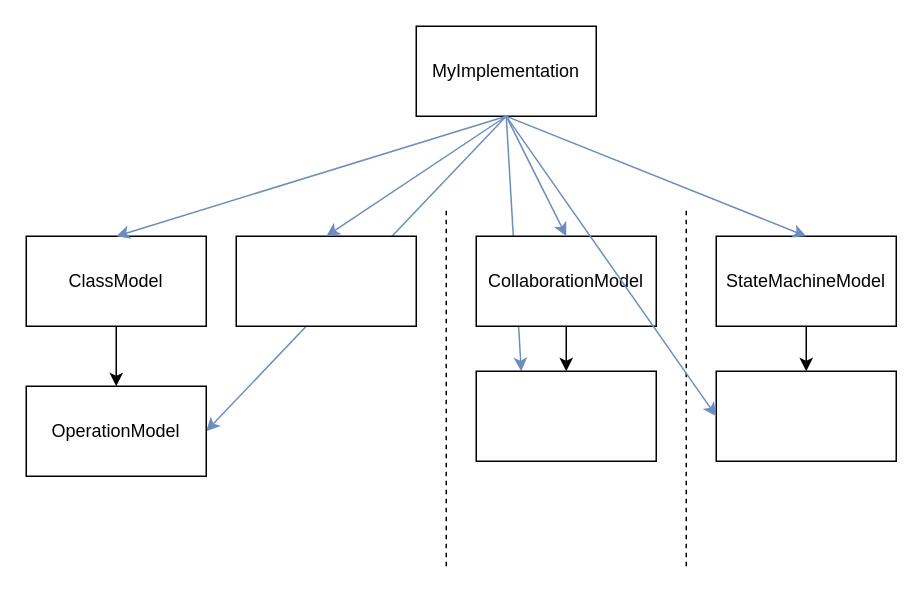
Some shapes in this 923 by 594 pixel diagram are drawn without their labels. The shapes that lost their labels are listed below. From the top down, each one's centre as x and y in pixels, then its label:
At (325,280): "InterfaceModel".
At (565,415): "InteractionModel".
At (805,415): "TransitionModel".
